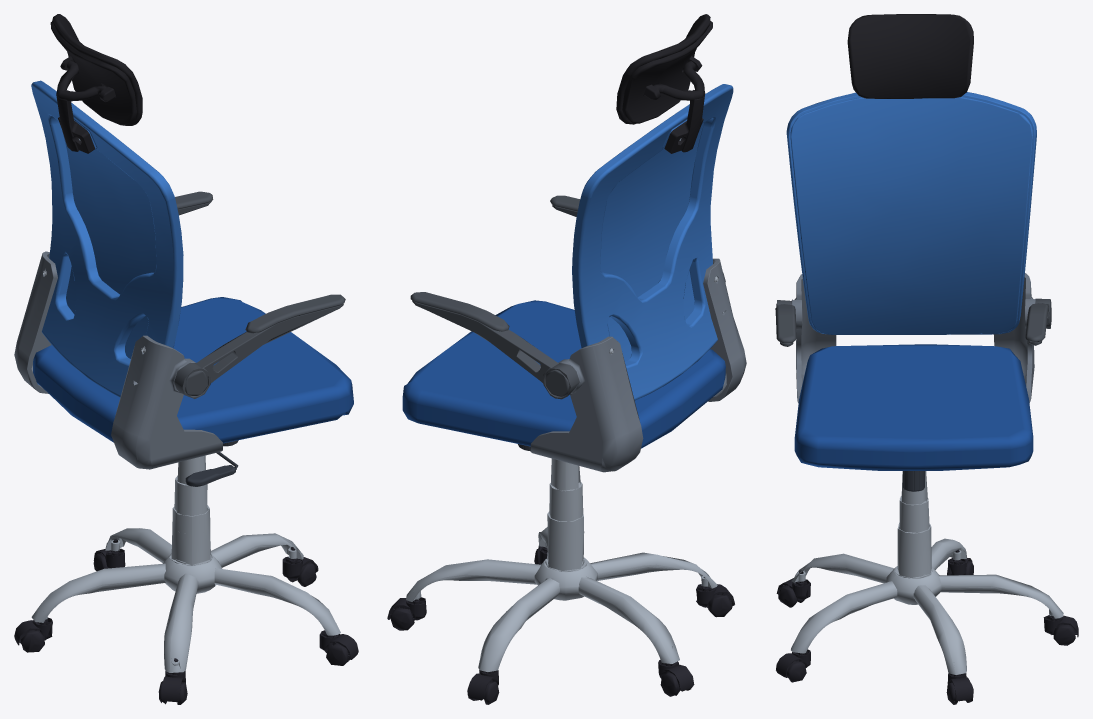
Rendered from cadeira-cad.lite.glb.
3 views of the same model, side by side, from view 1: azimuth 30°, elevation 25°; view 2: azimuth 150°, elevation 25°; view 3: azimuth 270°, elevation 25° (orthographic). The views are drawn at different scales.
Visible parts, largest first — view 1: Encosto, Assento, Base estrela, Coluna do encosto, Apoio de cabeça, Braços, Rodízios, Mecanismo de regulagem; view 2: Encosto, Assento, Base estrela, Coluna do encosto, Apoio de cabeça, Braços, Rodízios; view 3: Encosto, Assento, Base estrela, Apoio de cabeça, Rodízios, Coluna do encosto, Braços.
Boxes of the visible parts, x1=… form: Encosto: x1=31, y1=80, x2=183, y2=397; Assento: x1=33, y1=297, x2=353, y2=443; Base estrela: x1=31, y1=455, x2=340, y2=672; Coluna do encosto: x1=14, y1=251, x2=222, y2=469; Apoio de cabeça: x1=50, y1=14, x2=142, y2=153; Braços: x1=174, y1=191, x2=345, y2=398; Rodízios: x1=14, y1=539, x2=358, y2=704; Mecanismo de regulagem: x1=185, y1=440, x2=238, y2=486; Encosto: x1=572, y1=84, x2=733, y2=400; Assento: x1=402, y1=300, x2=725, y2=448; Base estrela: x1=406, y1=458, x2=717, y2=672; Coluna do encosto: x1=530, y1=258, x2=746, y2=472; Apoio de cabeça: x1=616, y1=14, x2=712, y2=153; Braços: x1=410, y1=195, x2=725, y2=399; Rodízios: x1=387, y1=546, x2=734, y2=704; Encosto: x1=786, y1=92, x2=1036, y2=334; Assento: x1=794, y1=344, x2=1033, y2=470; Base estrela: x1=791, y1=471, x2=1063, y2=674; Apoio de cabeça: x1=847, y1=14, x2=973, y2=98; Rodízios: x1=776, y1=549, x2=1078, y2=704; Coluna do encosto: x1=791, y1=273, x2=1035, y2=403; Braços: x1=775, y1=298, x2=1051, y2=346.
Size of the model in its own units: 1.8 by 3.59 by 1.71.
